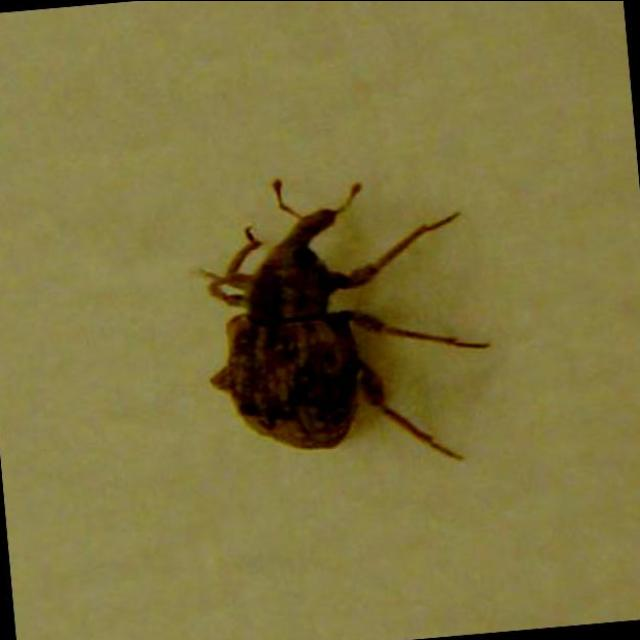ricebug: (201, 180, 487, 457)
